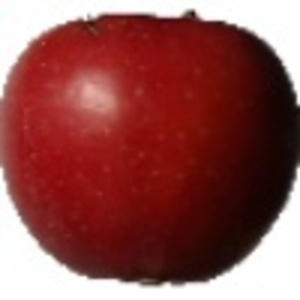maçã braeburn: (2, 7, 298, 291)
